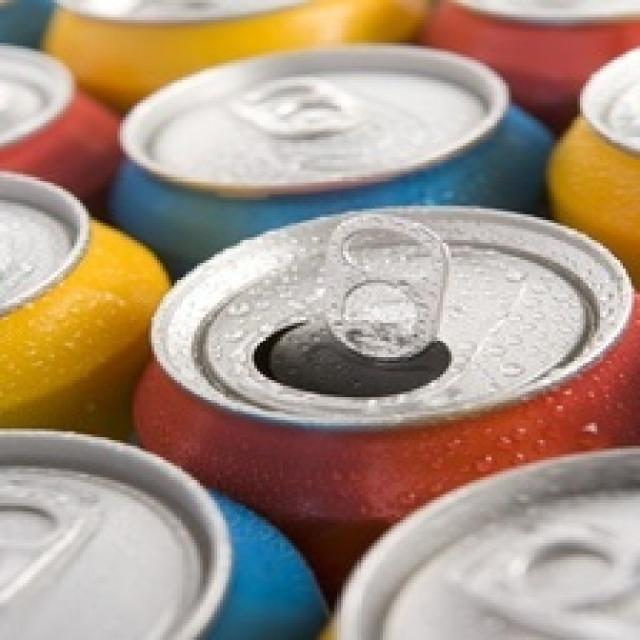recyclable: (125, 204, 640, 607), (108, 40, 556, 278), (0, 417, 331, 640), (317, 443, 640, 640), (0, 168, 173, 448), (0, 36, 130, 219), (547, 45, 640, 292)
